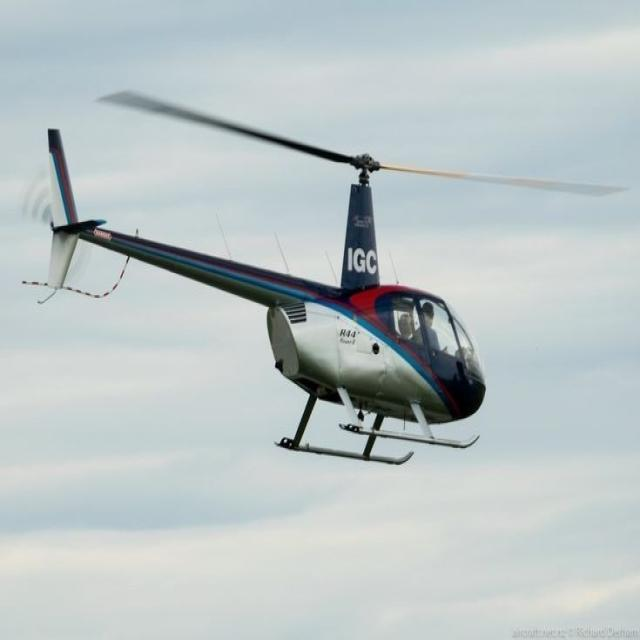CIV_HELO: (40, 123, 488, 469)
